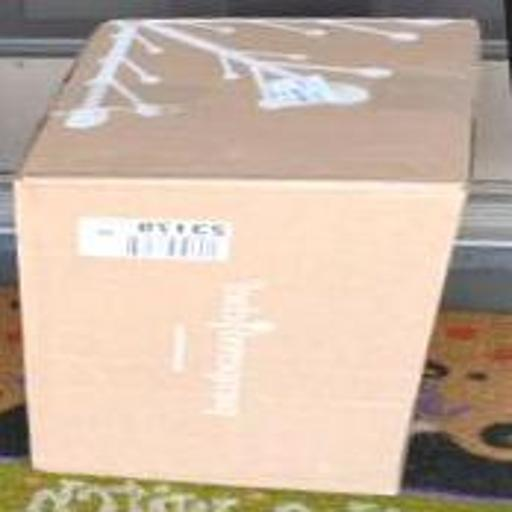Other: (29, 17, 436, 499)
